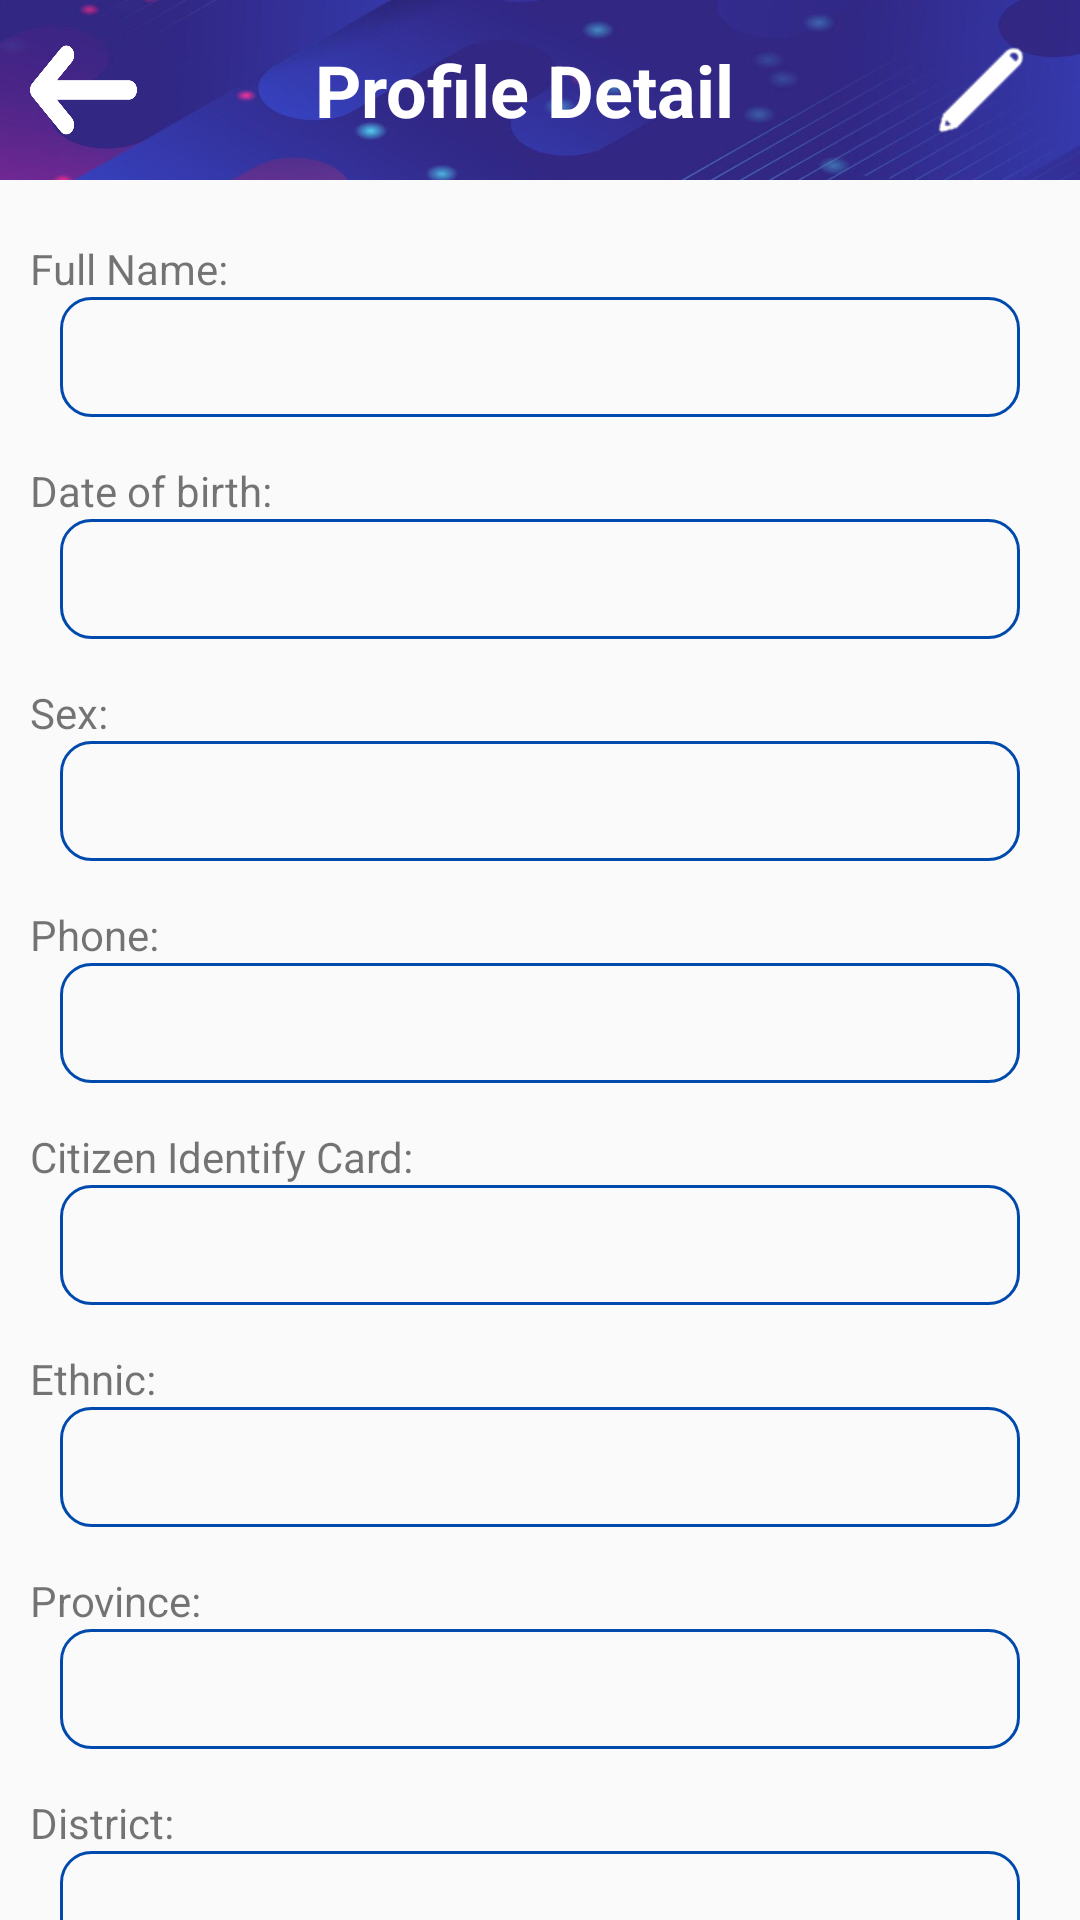

Icon click points for this 1080×1920 phone screenshot, format [x,y]:
back: [83,90]
edit: [981,90]
